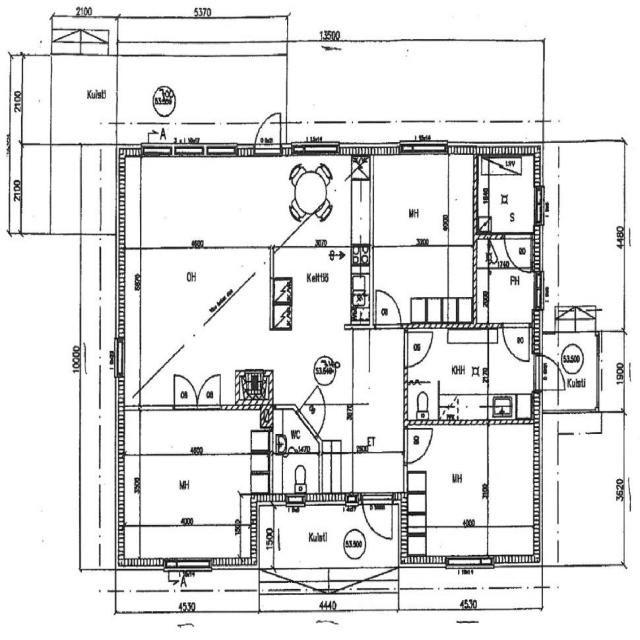door: (296, 386, 336, 438), (362, 492, 392, 544), (534, 355, 570, 390), (254, 110, 280, 156), (505, 233, 532, 274), (404, 332, 434, 367), (404, 428, 434, 462), (503, 323, 529, 362), (376, 289, 401, 328), (197, 374, 221, 411), (174, 374, 197, 411)
